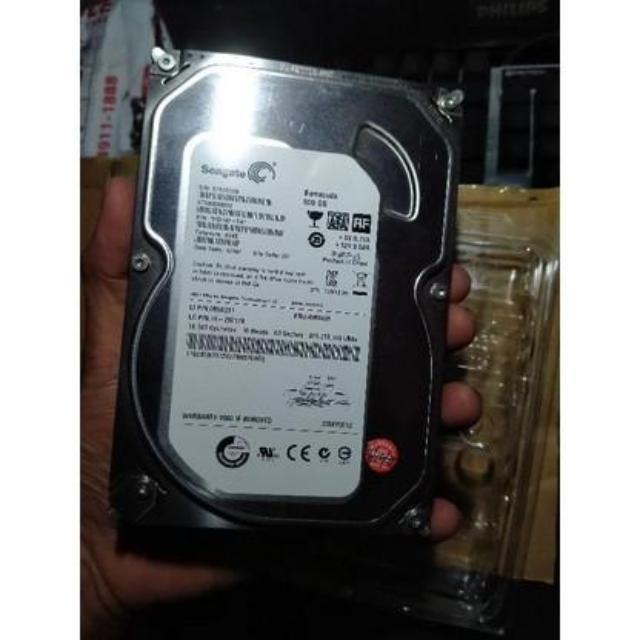DISK: (128, 39, 436, 572)
